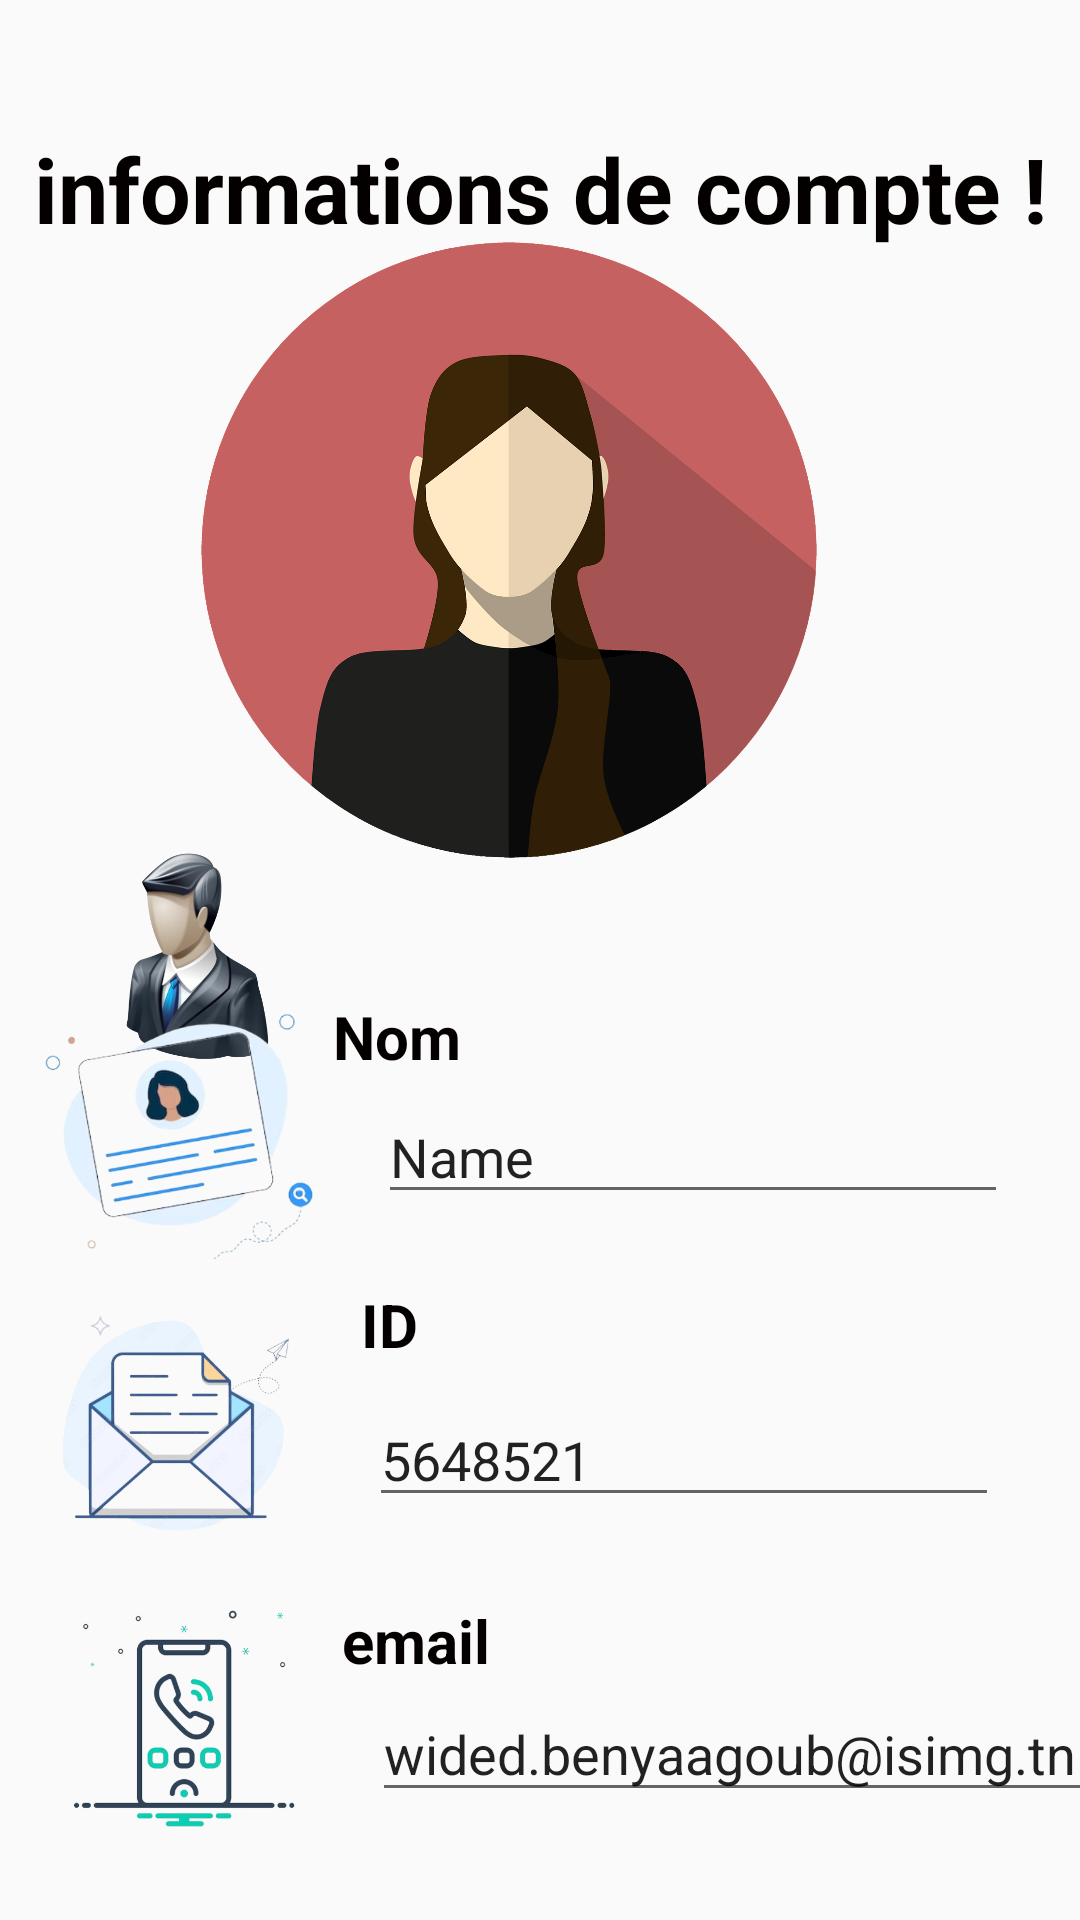

Named icons in this screenshot (1080 x 1920) and their centers, [x,y]:
personne: [192,965]
phone: [184,1718]
